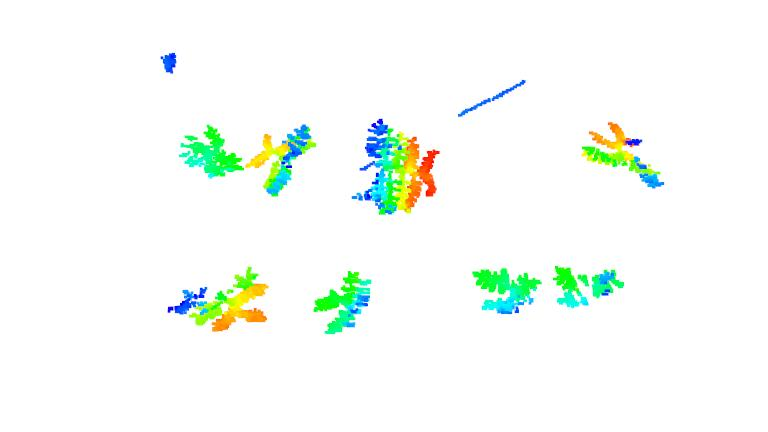chickpea: (354, 120, 439, 214), (177, 267, 268, 331), (583, 122, 665, 190), (244, 122, 317, 196), (178, 123, 244, 180), (315, 270, 373, 334), (470, 265, 544, 314), (552, 264, 623, 306)
